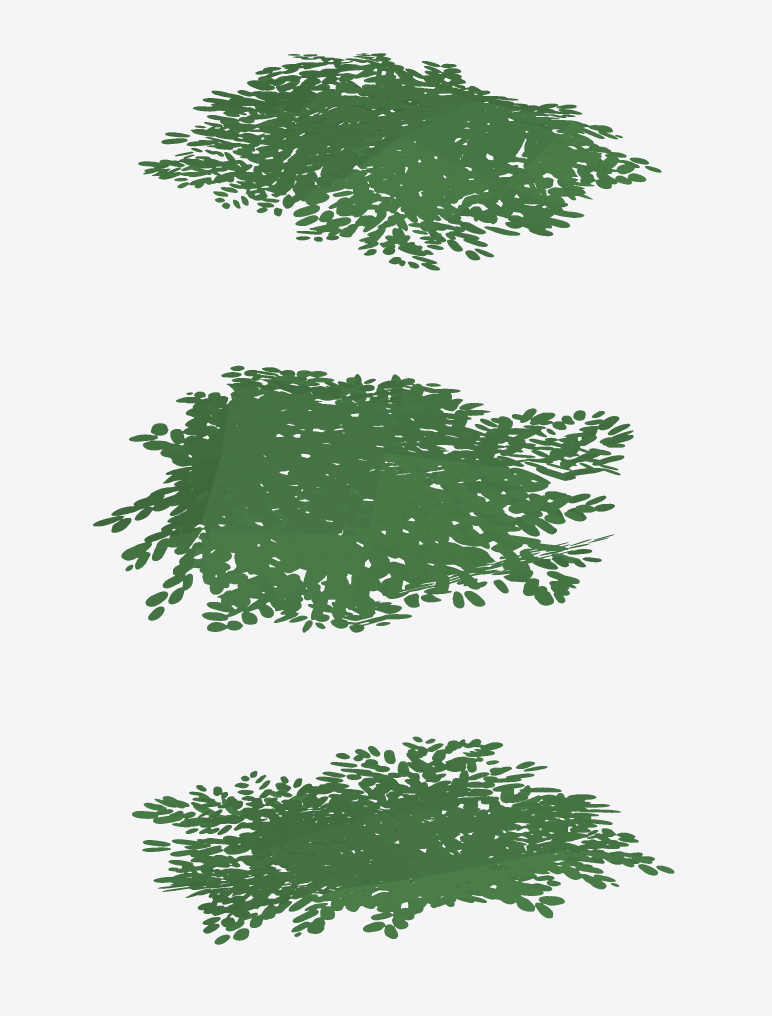
File: Blätter.fbx
The picture shows the model from 3 angles, top to bottom: view 1: azimuth 30°, elevation 25°; view 2: azimuth 150°, elevation 25°; view 3: azimuth 270°, elevation 25°; orthographic projection. The views are drawn at different scales.
Visible parts, largest first — view 1: Leaves_Plane.001; view 2: Leaves_Plane.001; view 3: Leaves_Plane.001.
Part boxes in pixels (bbox=[...]): Leaves_Plane.001: bbox=[138, 53, 661, 270]; Leaves_Plane.001: bbox=[93, 365, 633, 632]; Leaves_Plane.001: bbox=[132, 736, 674, 944].
Bounding box in the file's own units: 693 × 52.58 × 712.
